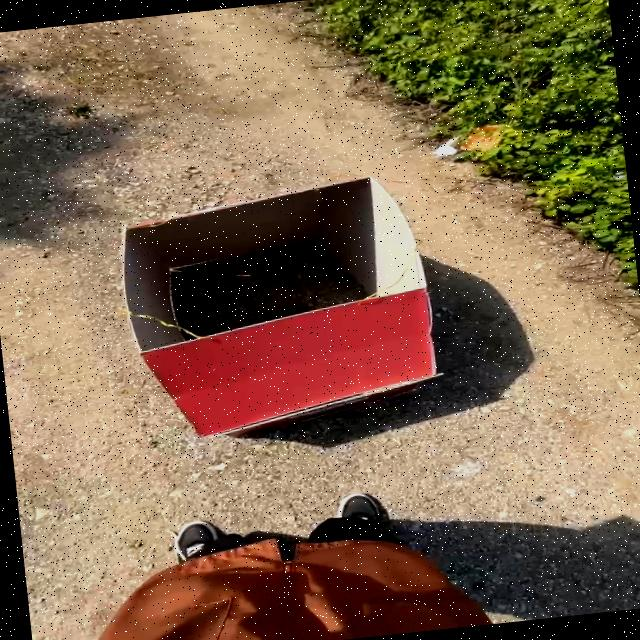red_car: (31, 154, 533, 470)
